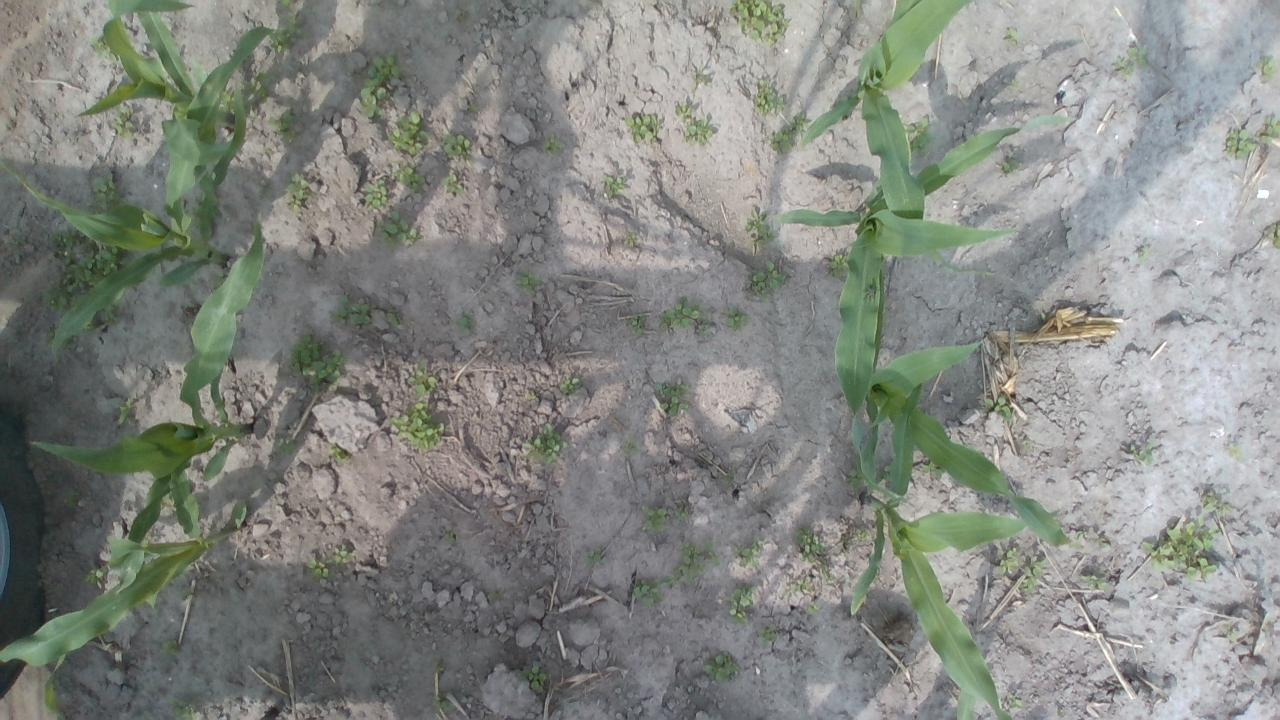Maize: (780, 116, 1077, 499), (3, 27, 284, 355), (30, 224, 264, 598), (856, 274, 1080, 550), (2, 463, 248, 712), (848, 384, 1026, 720), (804, 0, 984, 278), (74, 0, 272, 168)
Weeds: (1141, 515, 1221, 582), (63, 244, 131, 298), (287, 332, 343, 392), (352, 52, 400, 121), (726, 0, 788, 49), (391, 401, 444, 452), (386, 110, 430, 156), (522, 423, 566, 463), (238, 71, 272, 118), (380, 211, 420, 249), (750, 261, 786, 301), (269, 16, 304, 56), (751, 80, 785, 121), (38, 284, 79, 318), (659, 298, 702, 330), (86, 299, 124, 333), (653, 382, 689, 417), (267, 108, 301, 144), (701, 653, 739, 685), (677, 542, 705, 585), (728, 584, 758, 624), (331, 294, 368, 326), (1224, 128, 1258, 162), (794, 527, 827, 562), (744, 207, 777, 242), (92, 175, 124, 210), (906, 116, 934, 154), (1020, 556, 1048, 593), (1118, 46, 1150, 78), (626, 114, 658, 146), (632, 578, 664, 609), (734, 536, 762, 571), (394, 164, 426, 194), (640, 502, 670, 534), (406, 366, 439, 395), (1198, 489, 1230, 518), (109, 103, 135, 138), (983, 394, 1013, 424), (51, 226, 86, 250), (442, 132, 470, 160), (92, 34, 120, 62), (686, 119, 714, 146), (366, 178, 390, 208), (766, 129, 792, 155), (306, 558, 336, 580), (517, 271, 544, 295), (518, 666, 546, 689), (1258, 117, 1280, 146), (286, 174, 310, 200), (600, 174, 625, 198), (1257, 54, 1279, 81), (171, 698, 198, 720), (790, 111, 810, 140), (828, 254, 849, 281), (1080, 572, 1108, 592), (1128, 442, 1154, 463), (998, 546, 1019, 572), (846, 463, 864, 492), (727, 309, 749, 332), (703, 542, 721, 568), (920, 460, 943, 480), (560, 374, 583, 394), (328, 441, 348, 464), (83, 568, 107, 587), (999, 152, 1019, 174), (457, 312, 475, 336), (218, 90, 236, 114), (274, 437, 296, 456), (118, 398, 134, 424), (62, 487, 80, 510), (760, 623, 777, 647), (442, 174, 463, 193), (1265, 221, 1280, 247), (384, 310, 402, 330), (543, 134, 561, 154), (210, 199, 224, 223), (630, 316, 646, 337), (1006, 692, 1024, 710), (432, 694, 449, 713), (672, 99, 689, 118), (332, 546, 349, 564), (1226, 442, 1244, 459), (583, 550, 600, 568), (162, 639, 179, 657), (624, 439, 640, 458), (694, 72, 711, 89), (1138, 242, 1150, 264), (46, 324, 56, 350), (1226, 626, 1242, 642), (877, 465, 892, 482), (720, 470, 736, 485), (698, 321, 713, 337), (160, 493, 174, 509), (624, 232, 638, 248), (431, 657, 445, 672), (1098, 538, 1112, 552), (857, 526, 871, 540), (796, 578, 810, 592), (1006, 78, 1022, 90), (670, 510, 689, 520), (1006, 29, 1020, 42), (288, 197, 302, 210), (446, 527, 456, 545), (822, 567, 832, 584), (467, 102, 480, 114), (806, 604, 818, 616), (662, 574, 674, 586), (278, 0, 292, 10), (1022, 438, 1032, 450), (1074, 530, 1084, 540), (1039, 310, 1046, 321), (527, 393, 537, 400)
